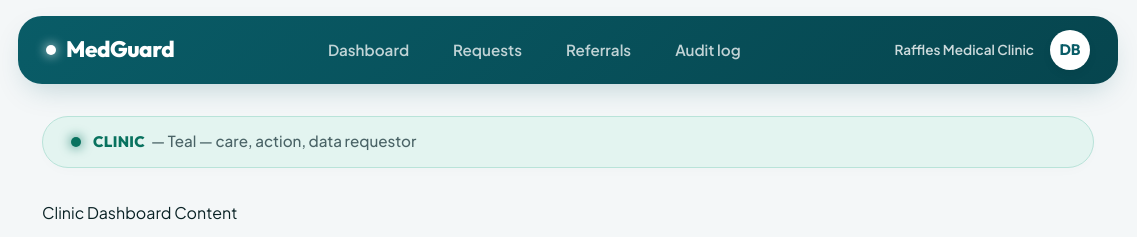
Test case: AppLayout and Primitives › should render clinic layout with organization name and dropdown signout button
This screenshot has width=1137, height=237.
Expected: the text "Raffles Medical Clinic" is shown, x1=894 y1=39 x2=1034 y2=61
Expected: the text "Clinic" is shown, x1=93 y1=132 x2=145 y2=151
Click the text "DB" at (1070, 50), box x1=1050 y1=30 x2=1090 y2=70
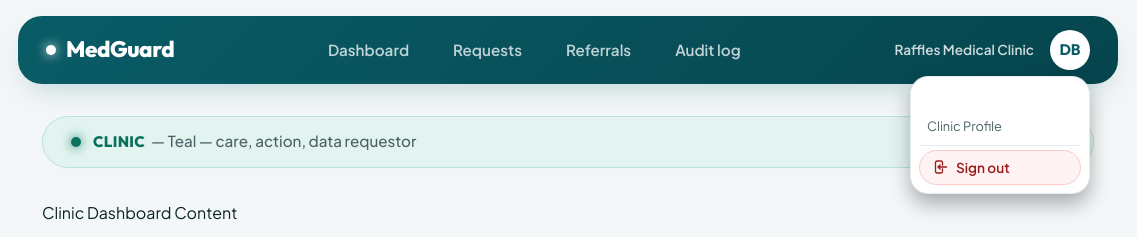
Now the button "Sign out" is shown, box x1=919 y1=150 x2=1081 y2=185
